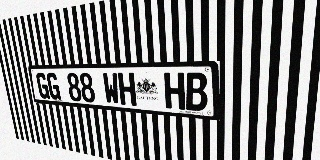8: (79, 73, 96, 103), (66, 73, 82, 102)
B: (185, 73, 208, 112)
G: (46, 73, 61, 100), (35, 73, 50, 99)
H: (164, 73, 185, 110), (118, 73, 137, 106)
W: (102, 73, 120, 105)
